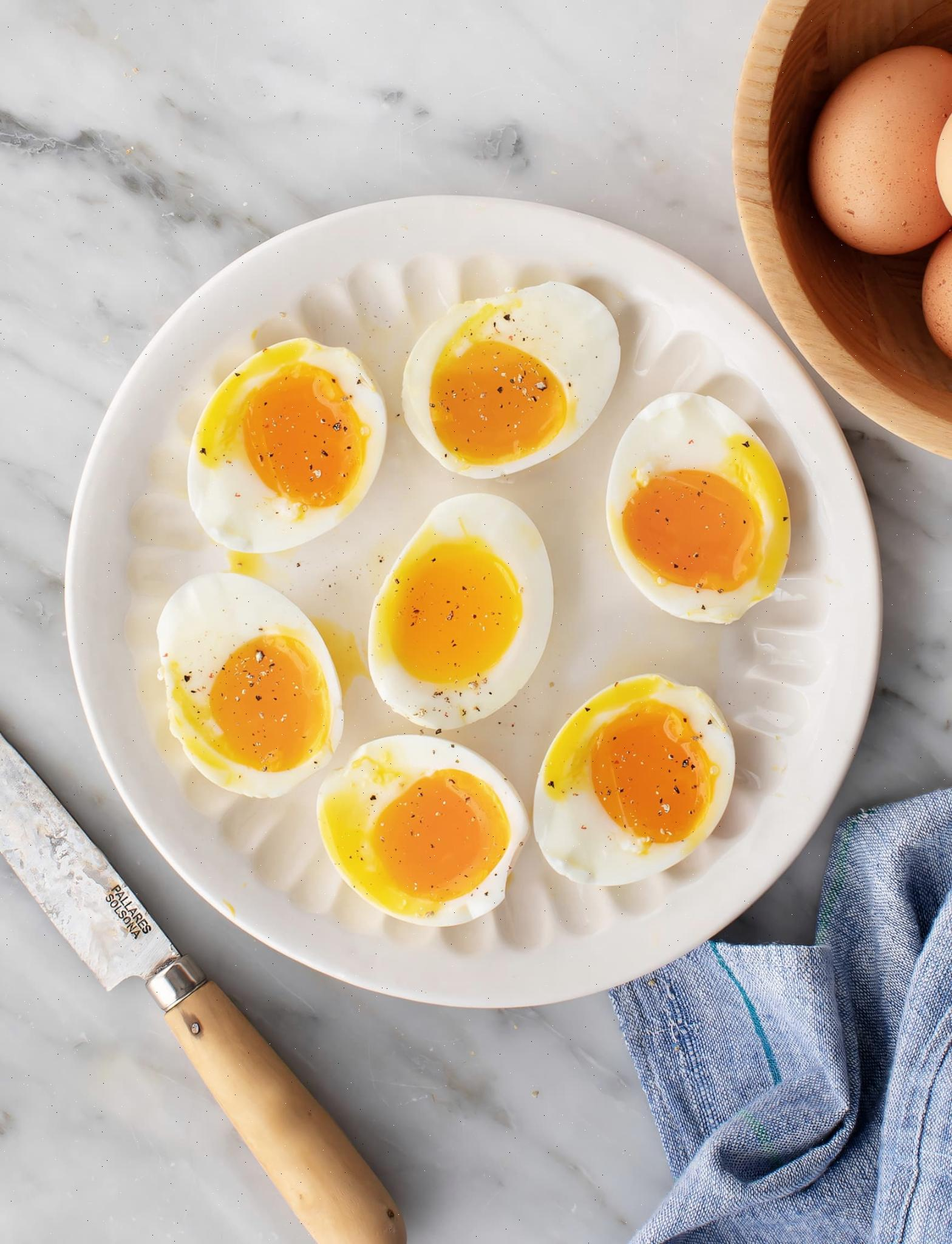eggs: (149, 261, 792, 931)
